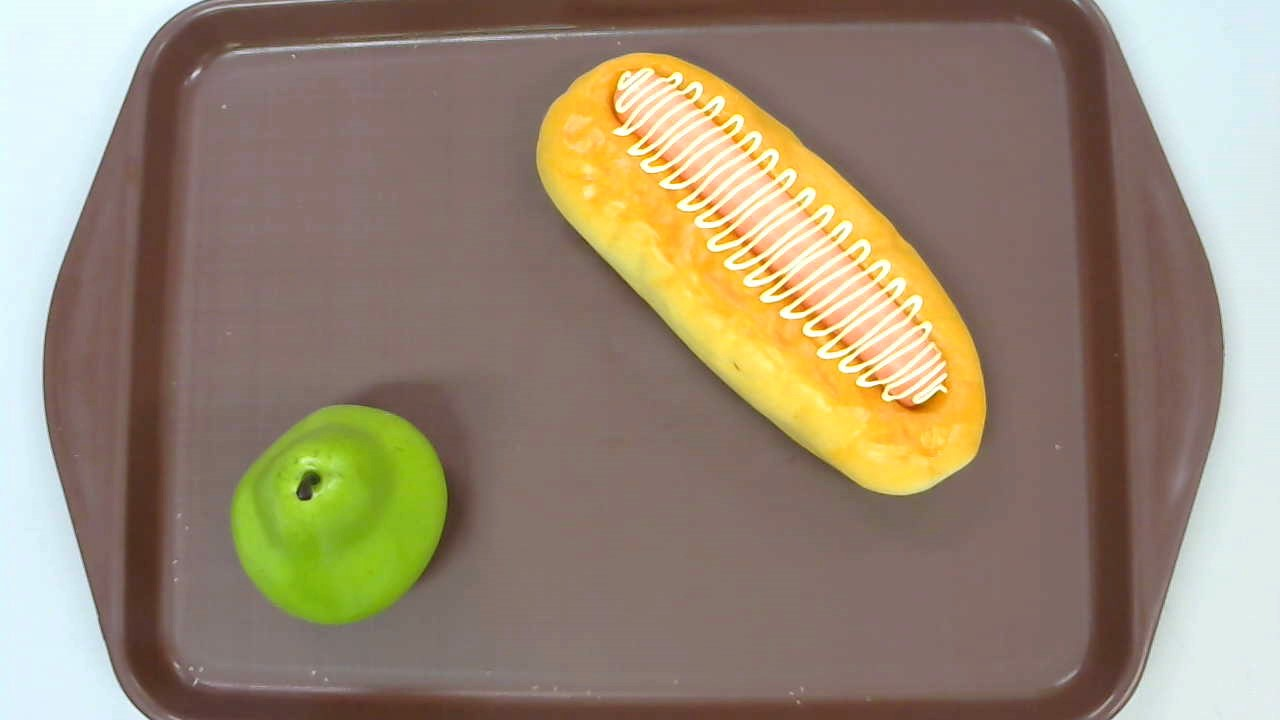green pear: (230, 404, 447, 625)
hot dog: (535, 52, 988, 496)
